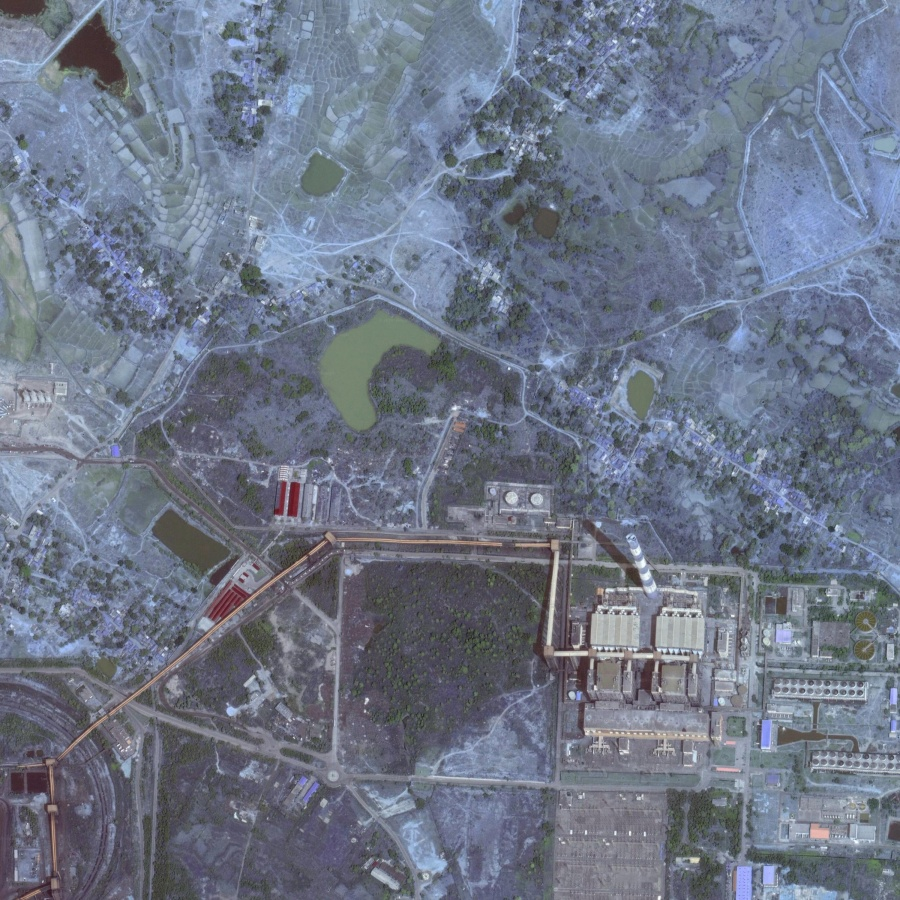PowerPlant: (557, 494, 711, 627)
